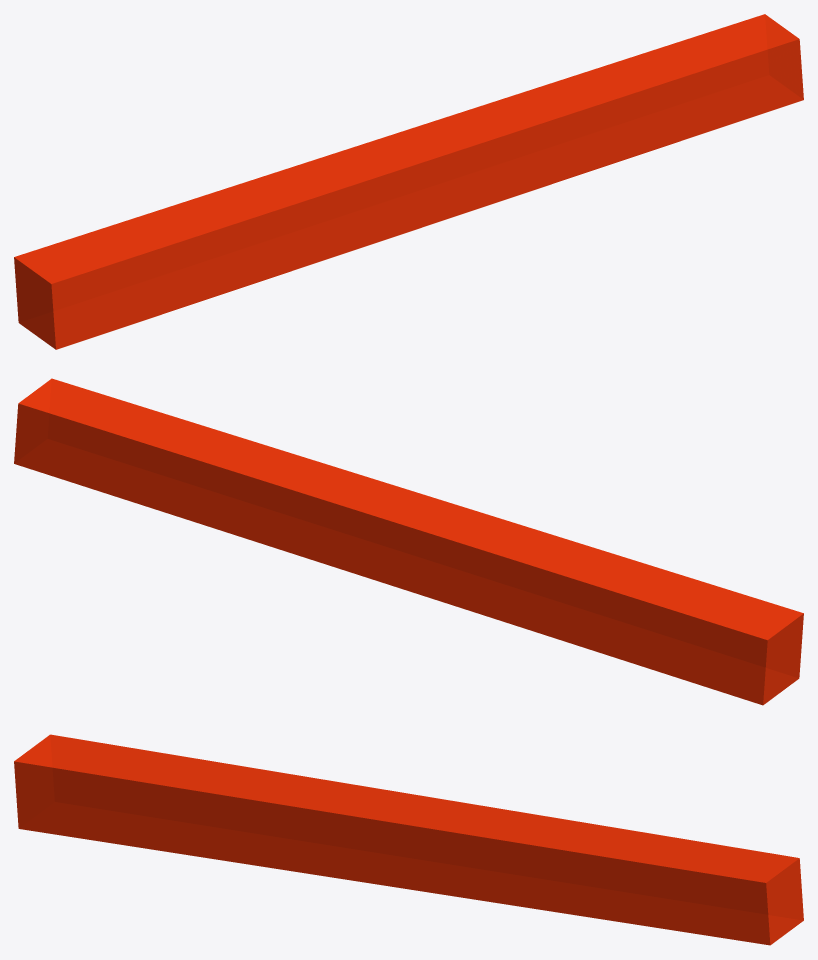
The model's file is Event_421115418_EErechit_46.fbx.
3 views of the same model, one above another, from view 1: azimuth 30°, elevation 25°; view 2: azimuth 150°, elevation 25°; view 3: azimuth 330°, elevation 25° (orthographic).
Visible parts, largest first — view 1: Model; view 2: Model; view 3: Model.
Boxes of the visible parts, x1=… form: Model: x1=14, y1=14, x2=803, y2=349; Model: x1=14, y1=378, x2=803, y2=705; Model: x1=14, y1=734, x2=803, y2=945.
Bounding box in the file's own units: 0.9264 × 0.1449 × 0.0842.
